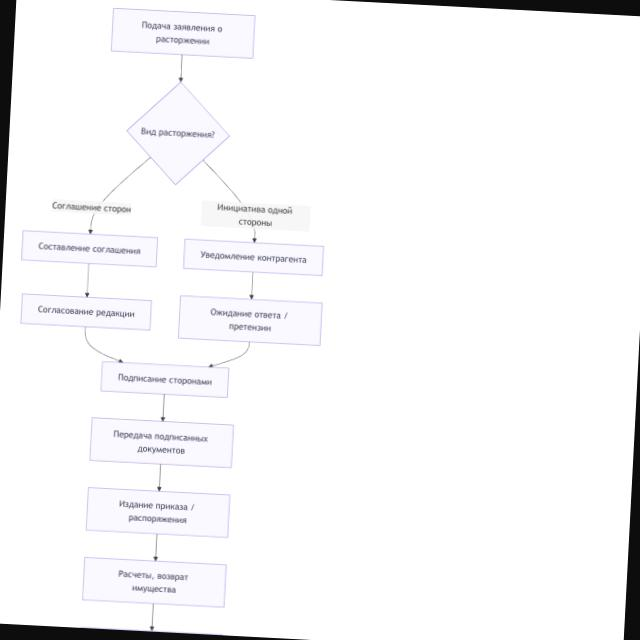arrow: (198, 158, 262, 243), (103, 158, 150, 201), (84, 328, 122, 363), (209, 344, 250, 367), (85, 264, 90, 297), (179, 56, 183, 81), (250, 273, 253, 299), (158, 465, 161, 491), (154, 535, 157, 561), (151, 604, 154, 630), (162, 395, 165, 420)
diamond: (128, 82, 229, 183)
rectangle: (89, 418, 233, 468), (86, 488, 230, 537), (111, 9, 255, 58), (82, 558, 226, 607), (179, 296, 322, 345), (184, 239, 323, 276), (22, 231, 157, 267), (21, 294, 152, 330), (101, 362, 228, 397)
text_region: (203, 204, 303, 228), (52, 202, 132, 216)
